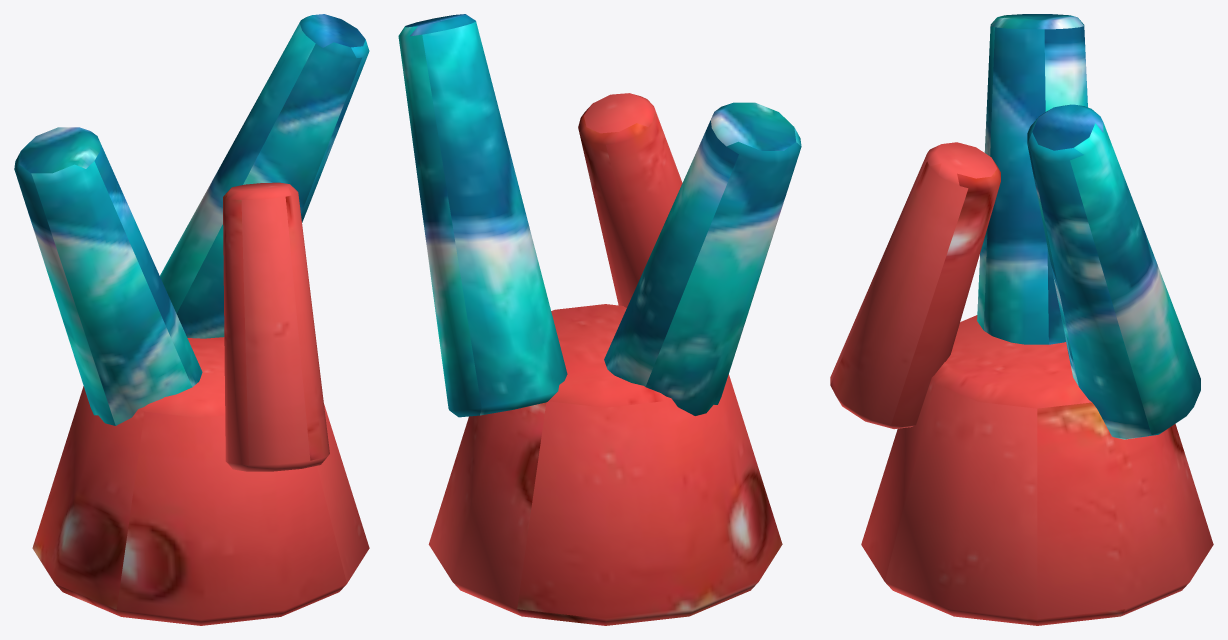
The model's file is deco_mar_flora.glb.
3 views of the same model, side by side, from view 1: azimuth 30°, elevation 25°; view 2: azimuth 150°, elevation 25°; view 3: azimuth 270°, elevation 25° (orthographic). The views are drawn at different scales.
Parts seen in each view (by area): view 1: deco_mar_flora; view 2: deco_mar_flora; view 3: deco_mar_flora.
Boxes of the visible parts, x1,y1,x2,y2 form: deco_mar_flora: [14, 14, 369, 625]; deco_mar_flora: [398, 14, 801, 625]; deco_mar_flora: [830, 14, 1213, 625].
Bounding box in the file's own units: 0.7598 × 1 × 0.6745.
Materials: 2 (2 with a texture image).
